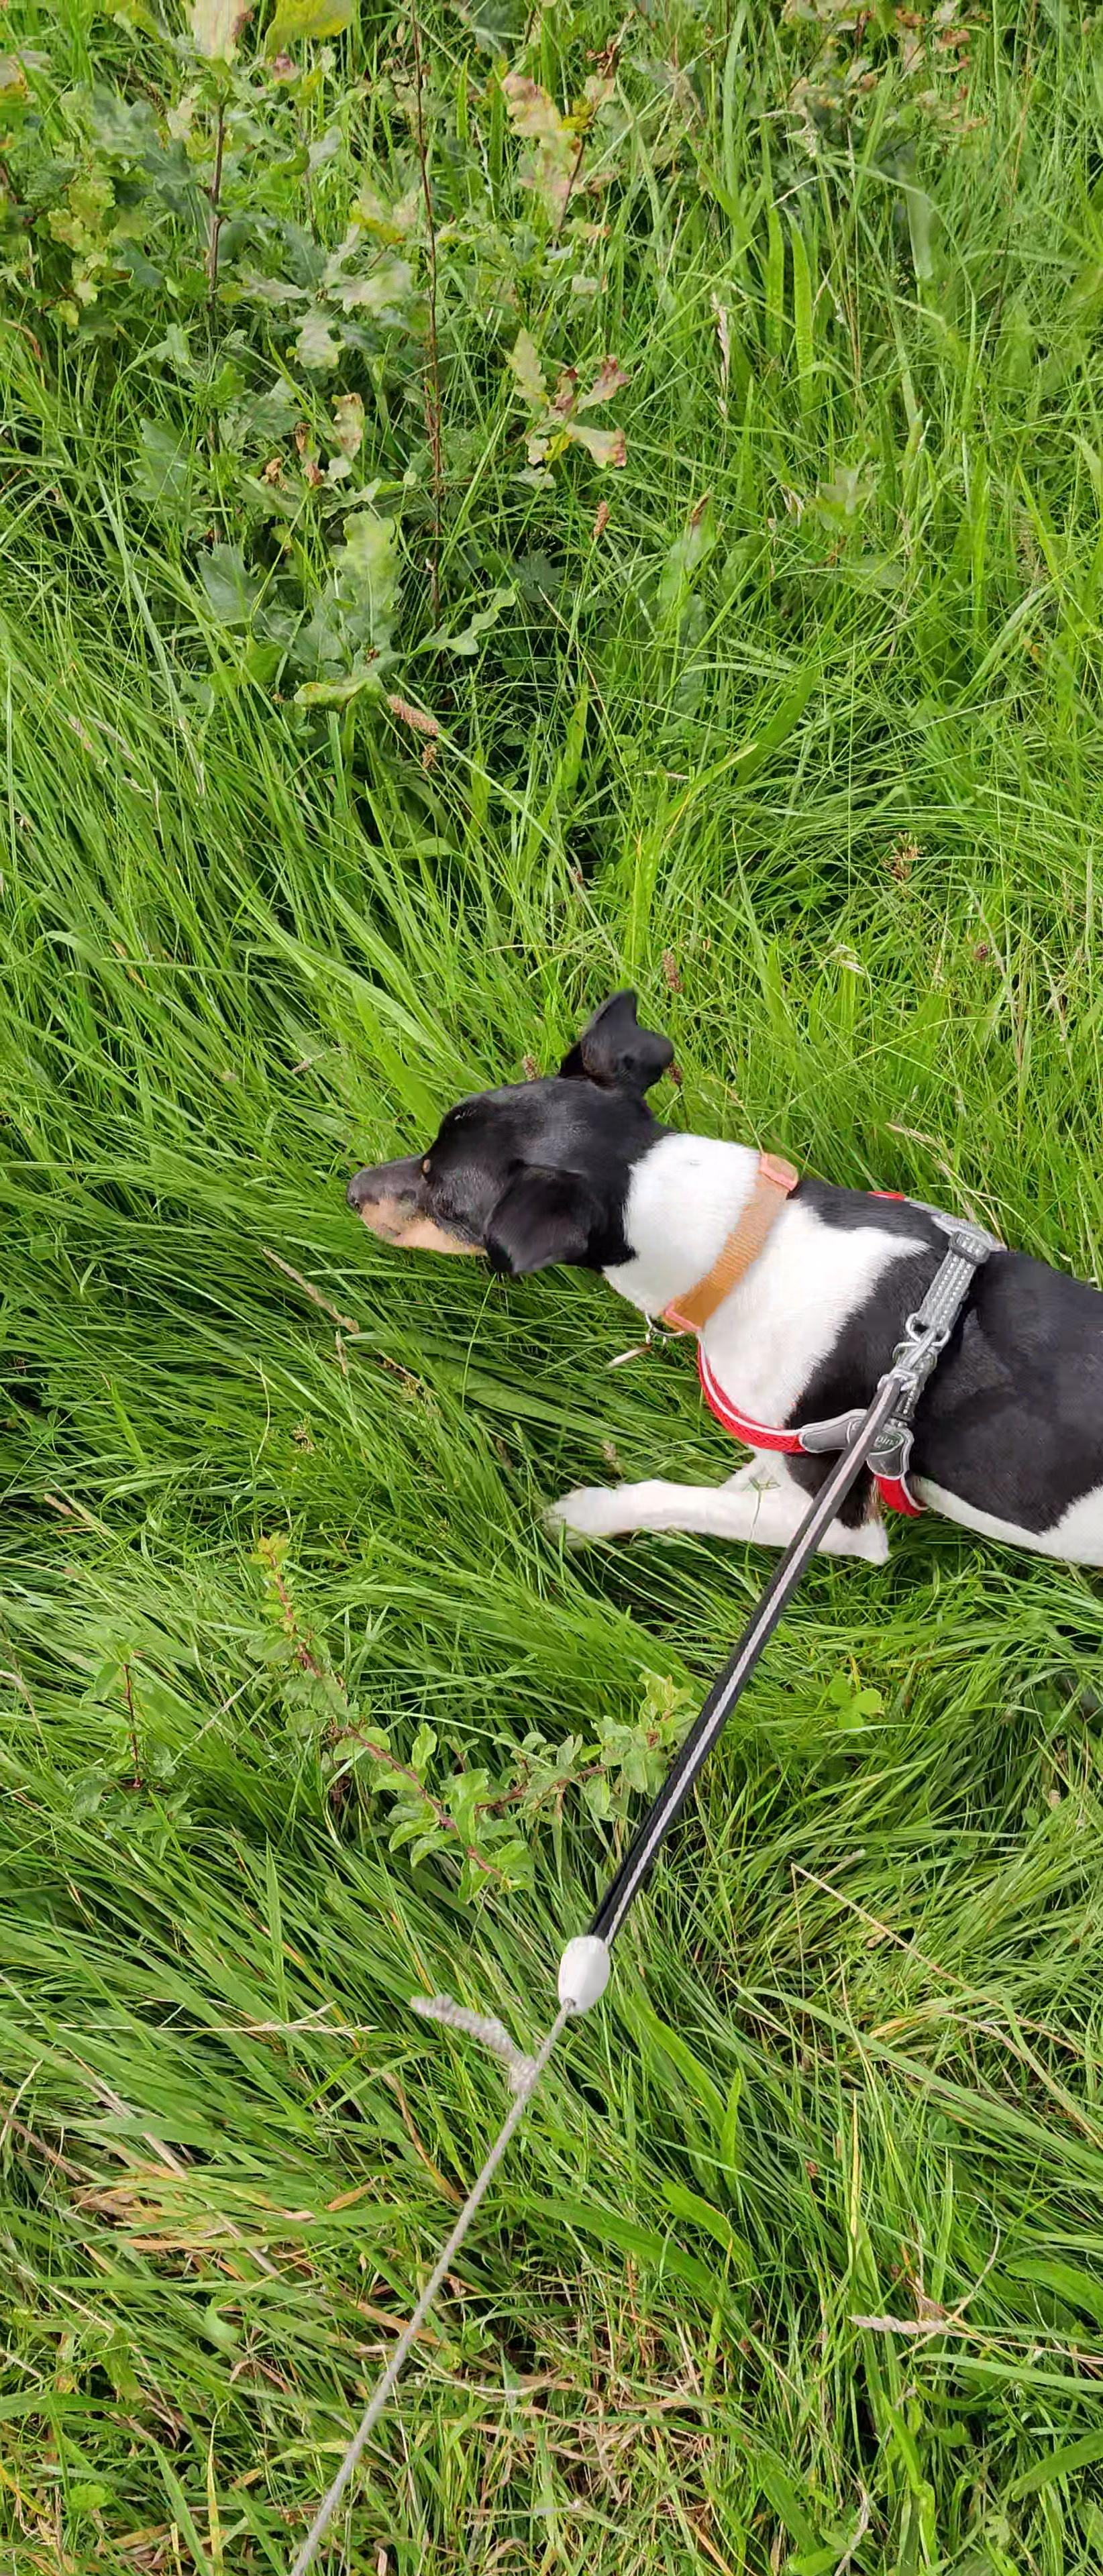Dog: (279, 935, 1103, 1646)
